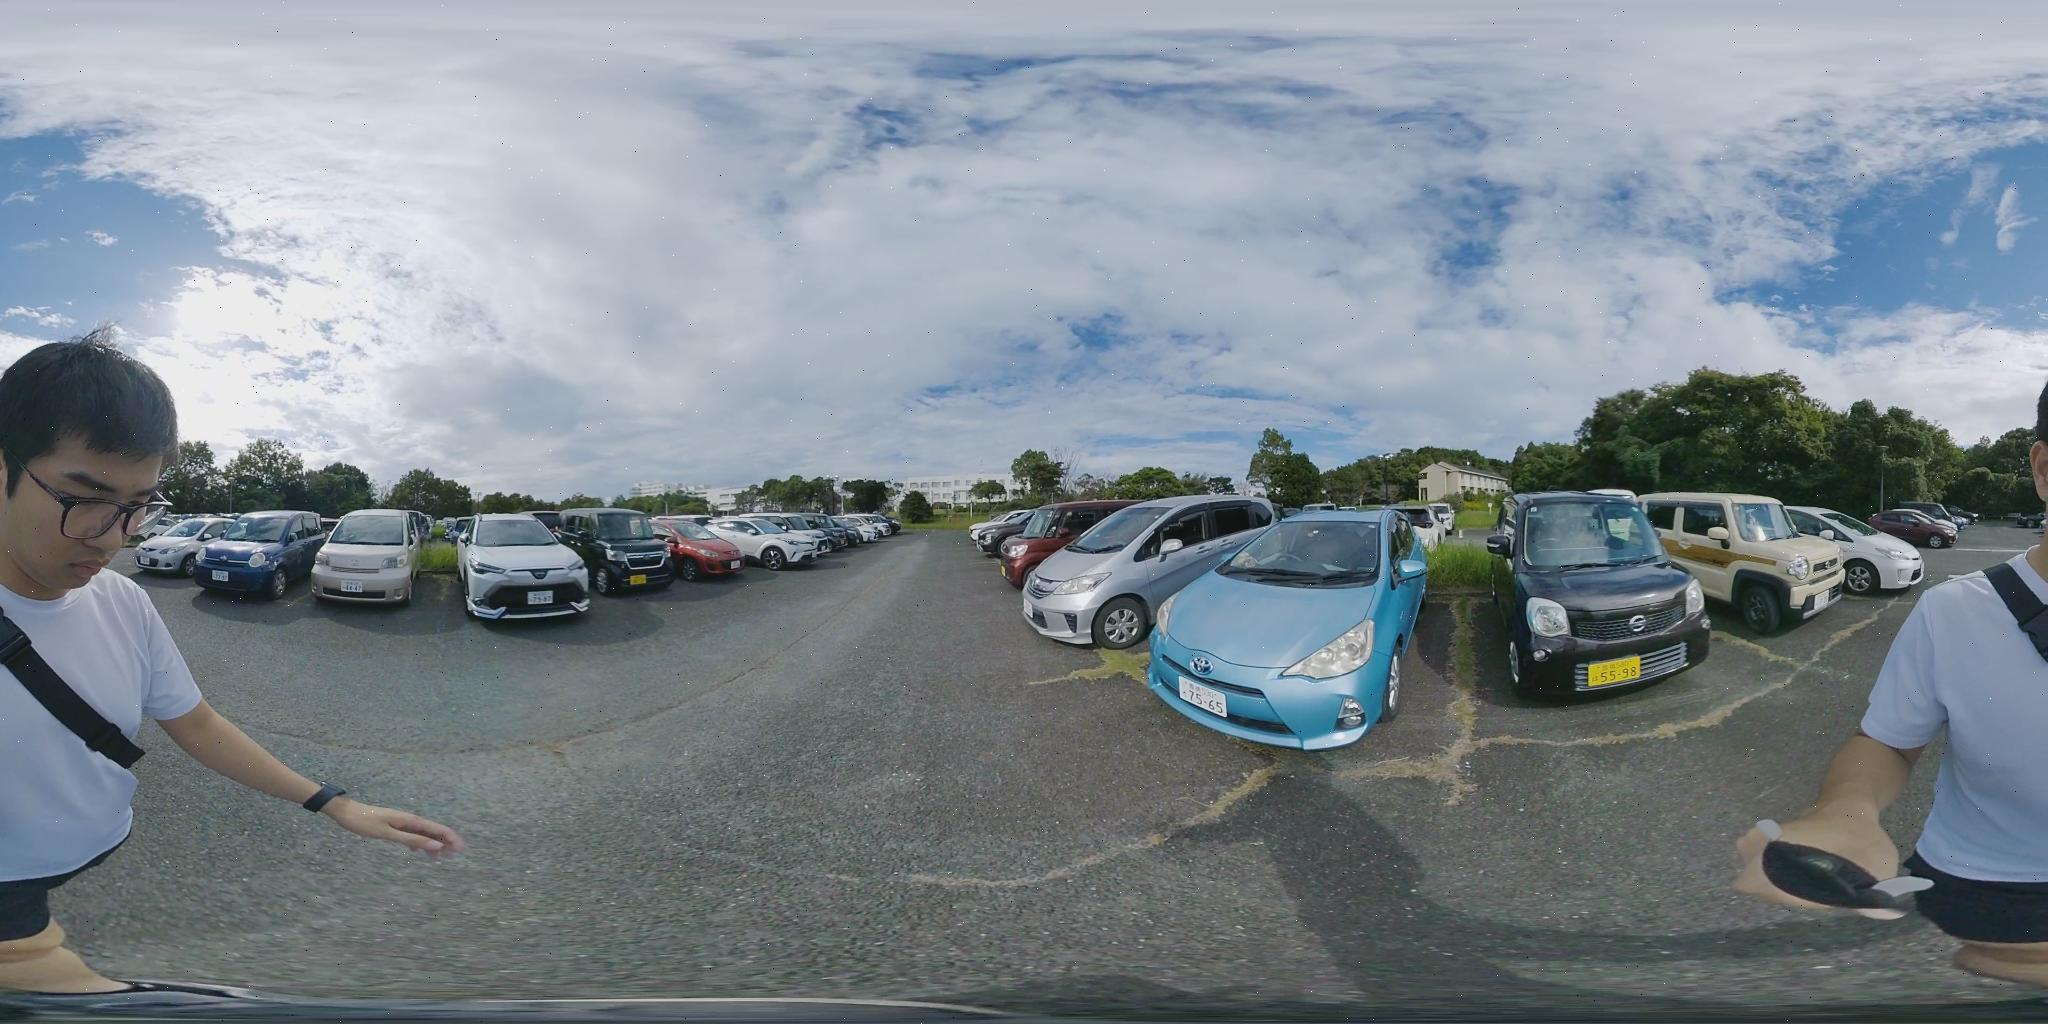car: (1152, 508, 1400, 725), (1019, 496, 1285, 652), (1492, 499, 1710, 687), (1631, 492, 1865, 633), (457, 519, 596, 624), (968, 502, 1140, 579), (312, 511, 435, 603), (171, 516, 321, 592), (1785, 508, 1927, 588), (555, 511, 683, 590), (707, 513, 840, 568), (132, 519, 234, 573), (1866, 508, 1963, 549), (824, 516, 893, 546)
